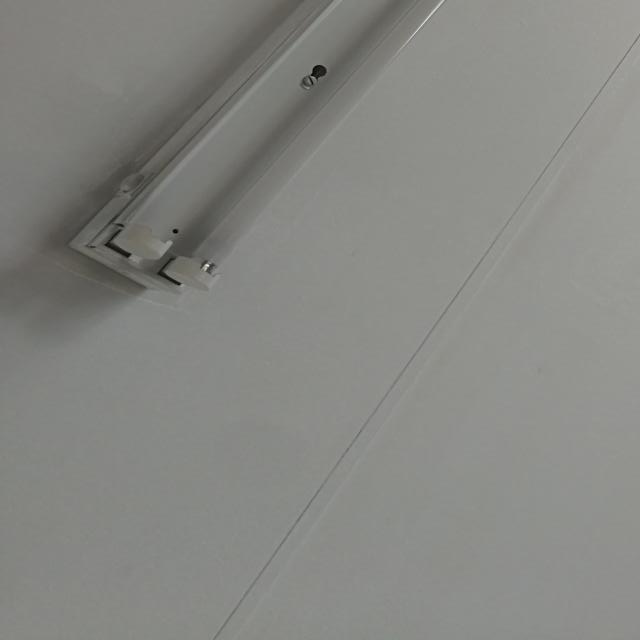fluorescent tube: (64, 1, 640, 321)
